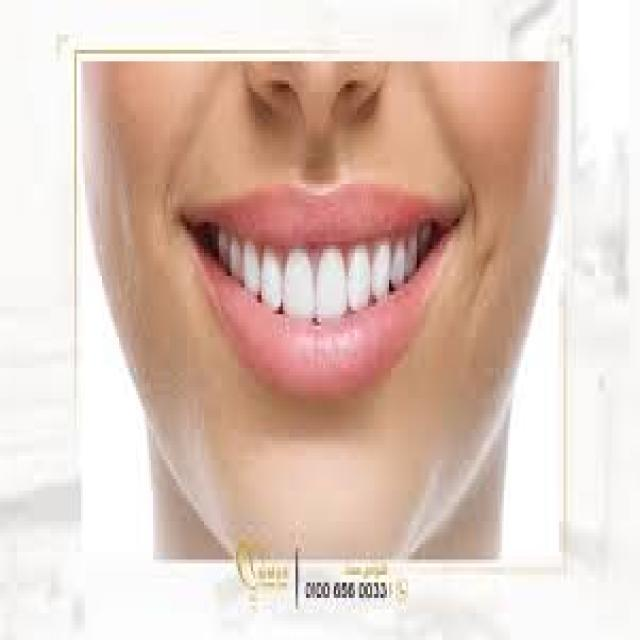tooth: (316, 246, 346, 314), (282, 253, 312, 314), (259, 245, 281, 303), (351, 245, 370, 307), (240, 246, 262, 292), (374, 245, 389, 299), (391, 238, 406, 280), (230, 234, 240, 276), (213, 226, 223, 265), (408, 234, 417, 268), (419, 226, 434, 245)
